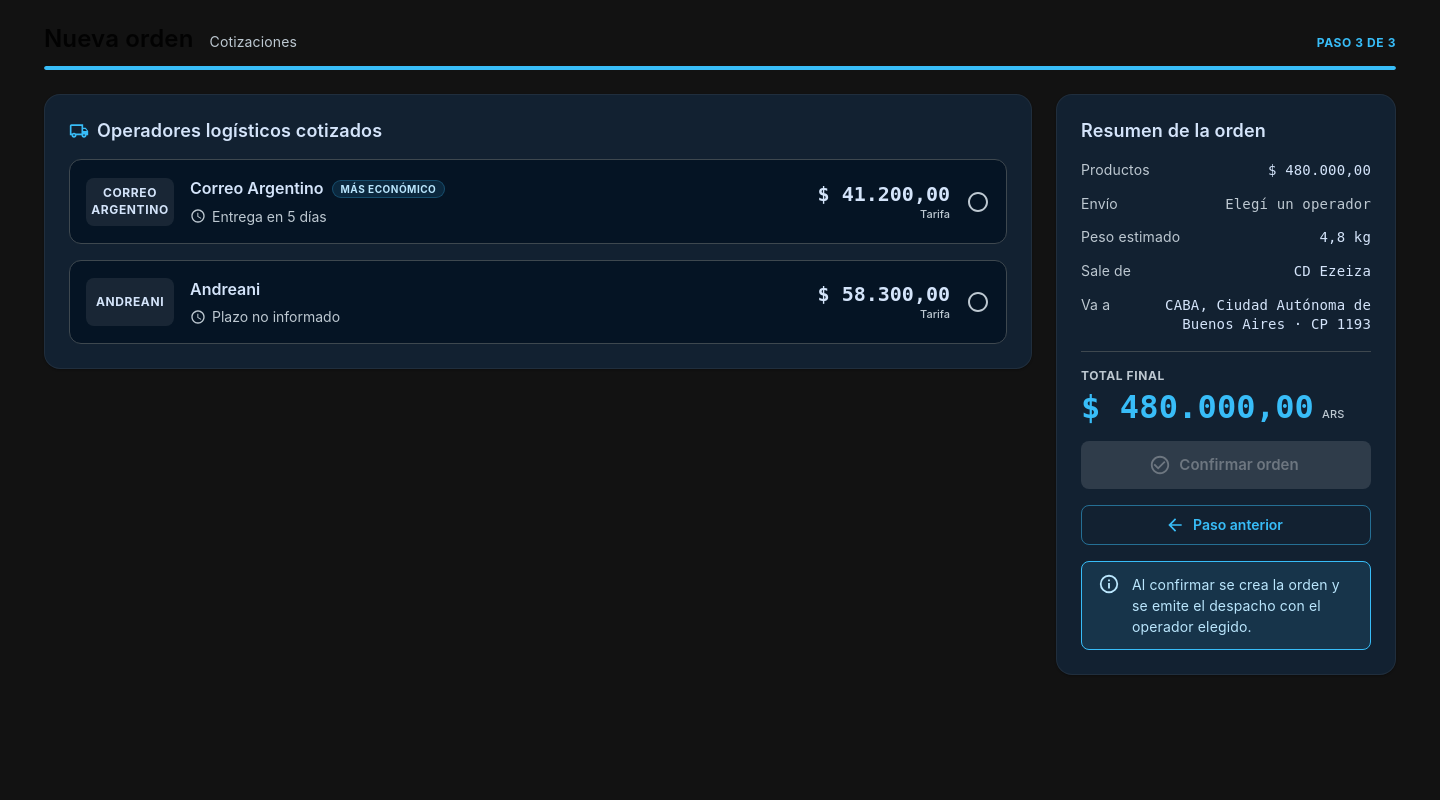
Test: CarrierStepPage › confirming › when the dispatch fails after the order was created › says the order exists and what failed
Step 1. Click the radio button labelled "Andreani Andreani Plazo no informado $ 58.300,00 Tarifa" → (130, 302), box [69,260,1007,344]
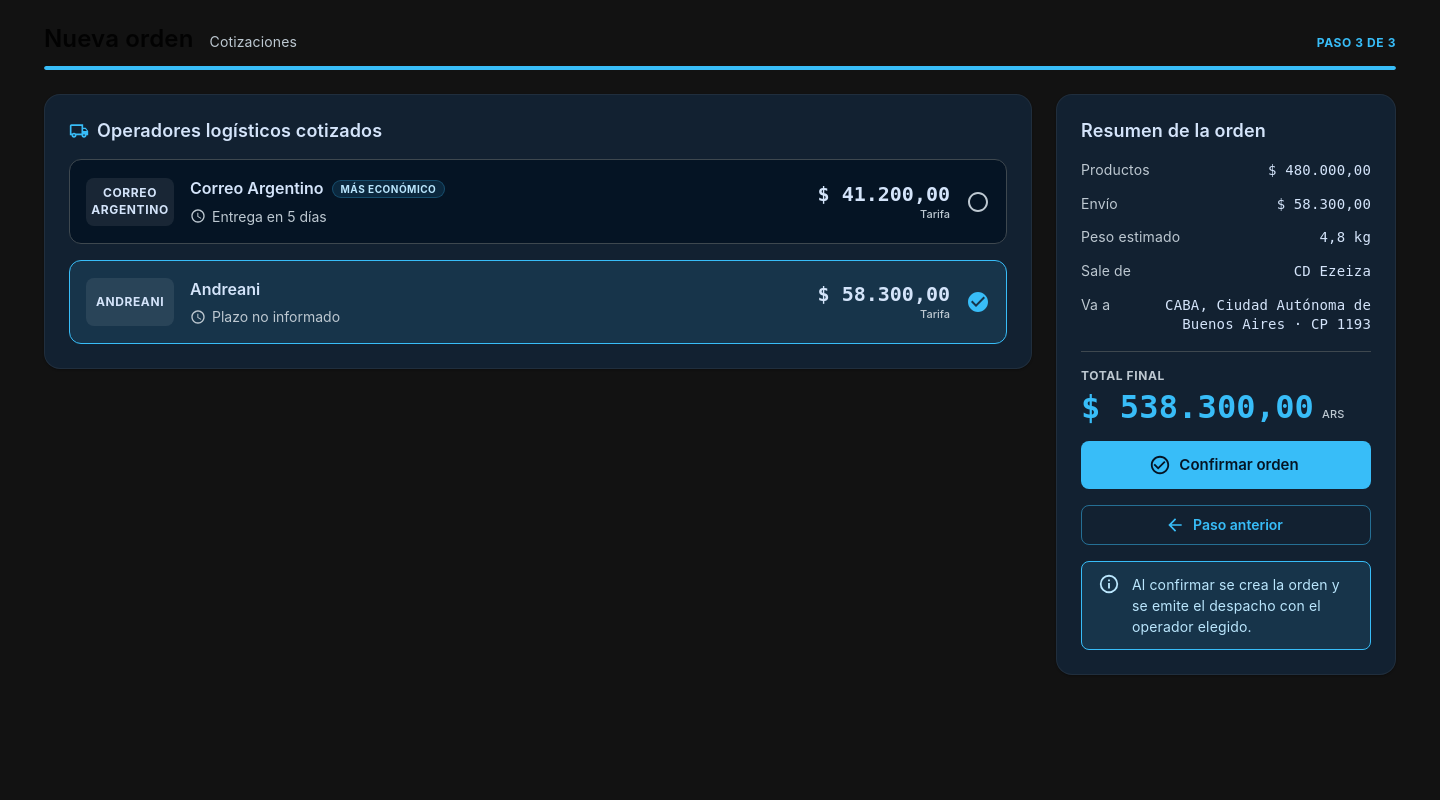
Step 2. Click the button "Confirmar orden" → (1226, 466), box [1081,442,1371,490]
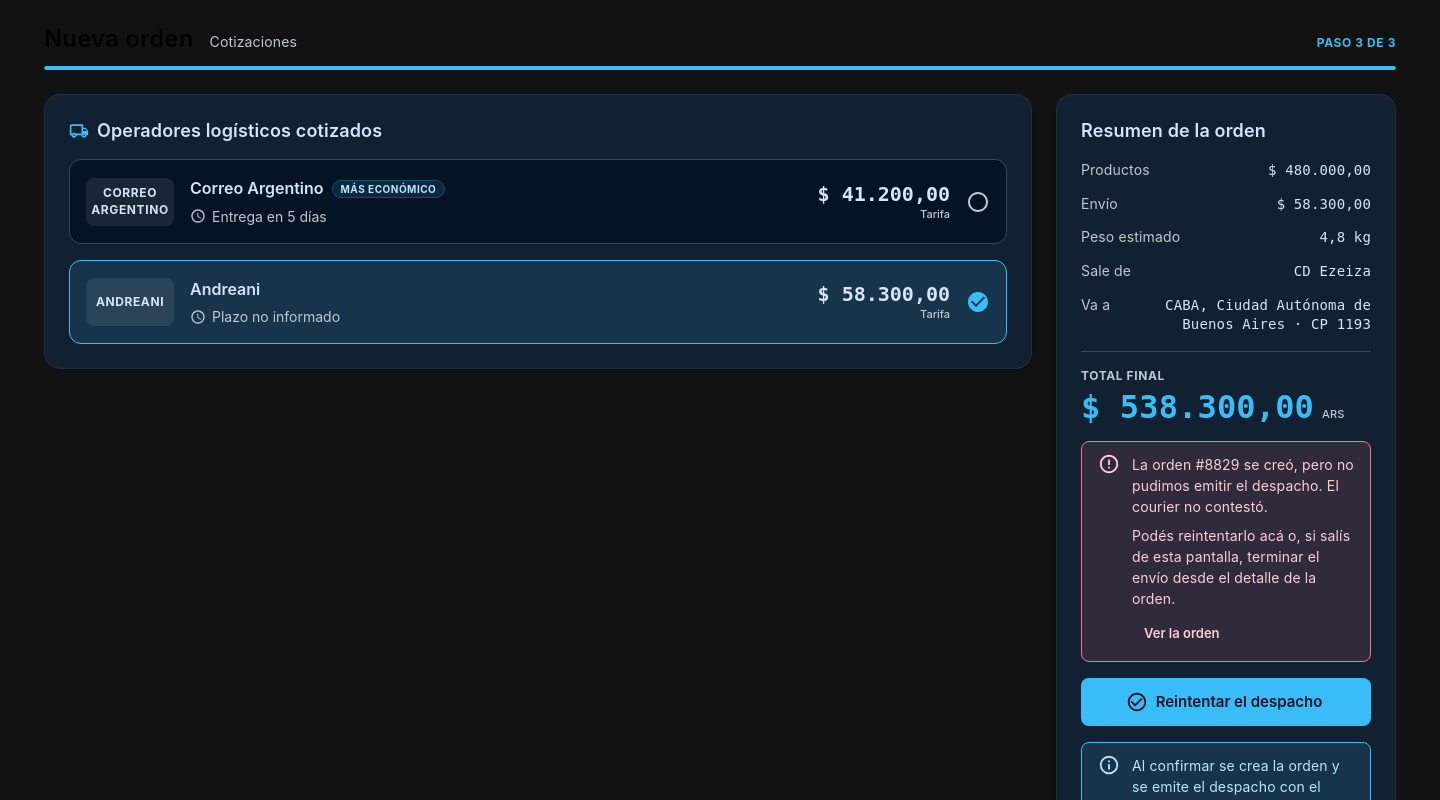
Check: the text "La orden #8829 se creó, pero no pudimos emitir el despacho" is shown, box [1132,456,1354,494]
